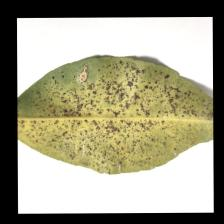canker: (58, 64, 170, 151)
